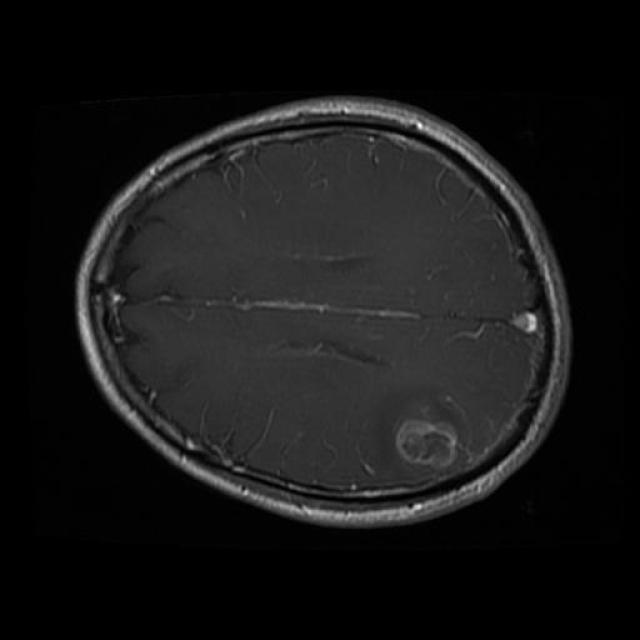Glioma: (368, 386, 472, 482)
